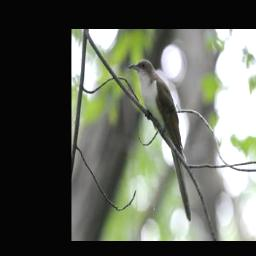Cuckoo: (128, 56, 194, 225)
